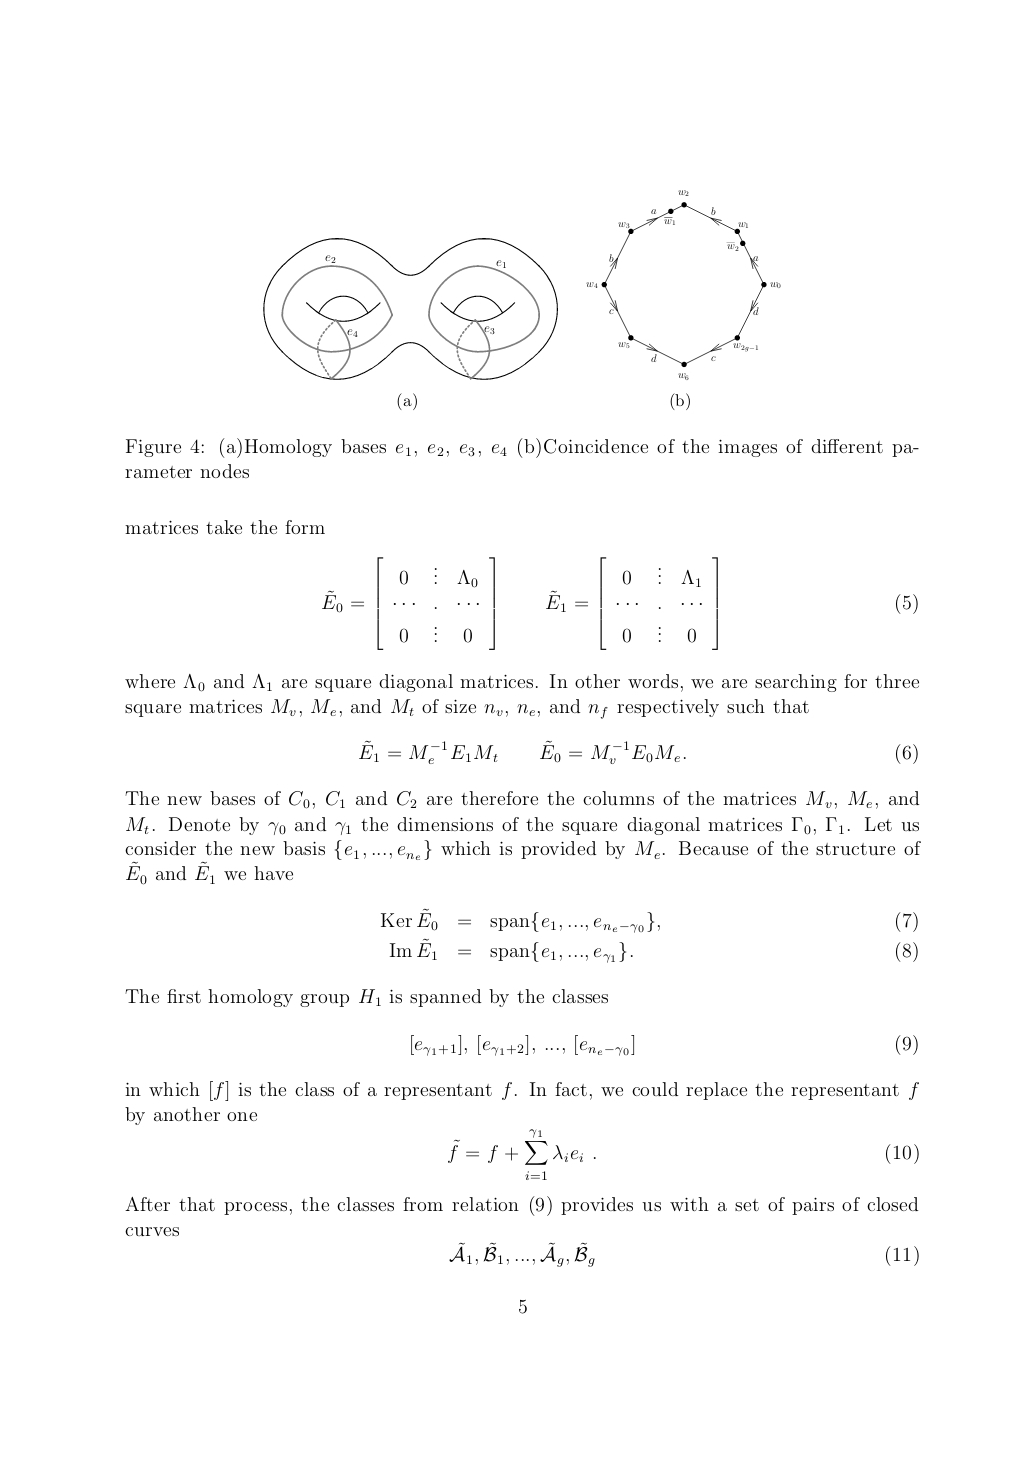figure: (263, 238, 557, 379), (586, 190, 780, 380)
formula: (322, 555, 917, 650), (449, 1129, 918, 1179), (359, 740, 917, 765), (389, 937, 917, 963), (449, 1241, 918, 1267), (380, 911, 917, 933), (411, 1034, 917, 1056)
